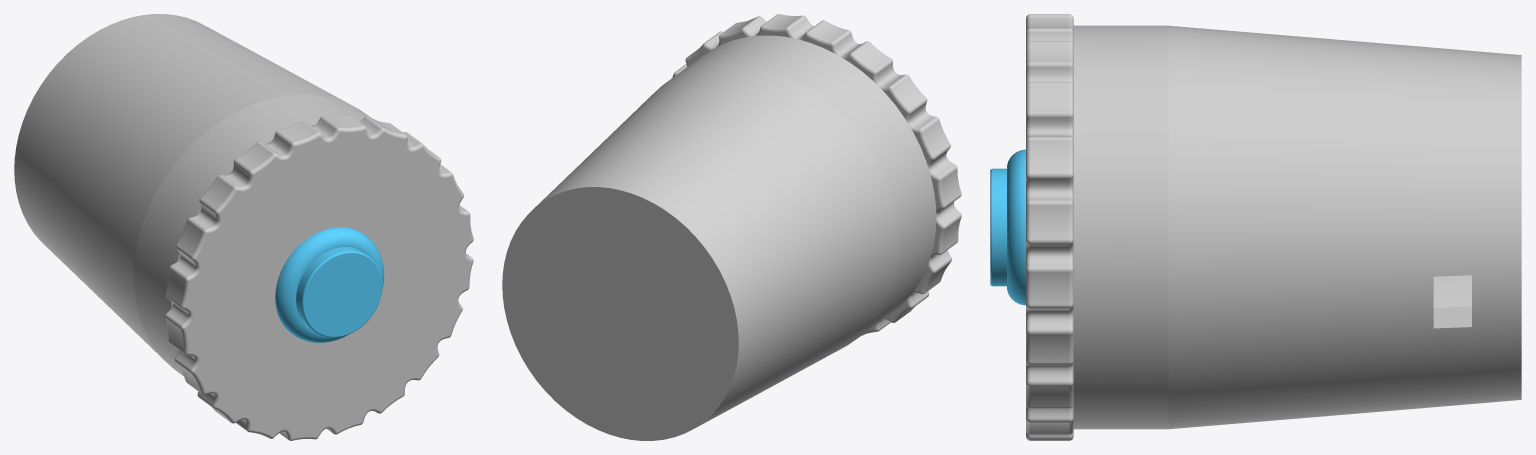
The model's file is cupholder.glb.
3 views of the same model, side by side, from view 1: azimuth 30°, elevation 25°; view 2: azimuth 150°, elevation 25°; view 3: azimuth 270°, elevation 25° (orthographic). The views are drawn at different scales.
Parts seen in each view (by area): view 1: Lid_node, CupHolderCase, Body1; view 2: CupHolderCase, Lid_node; view 3: CupHolderCase, Lid_node, Body1.
Part boxes in pixels (x1,y1,x2,y2): Lid_node: [165, 114, 473, 440]; CupHolderCase: [14, 14, 370, 376]; Body1: [275, 227, 384, 342]; CupHolderCase: [502, 35, 936, 440]; Lid_node: [672, 14, 961, 335]; CupHolderCase: [1073, 25, 1521, 429]; Lid_node: [1026, 14, 1073, 440]; Body1: [990, 149, 1025, 305].
Bounding box in the file's own units: 89.74 × 89.74 × 112.
